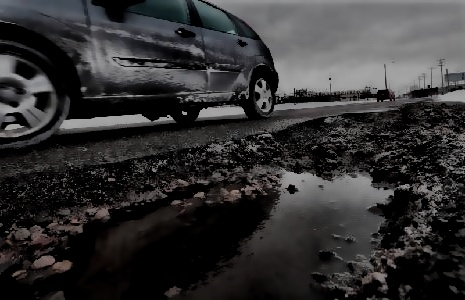pothole: (1, 105, 465, 299)
